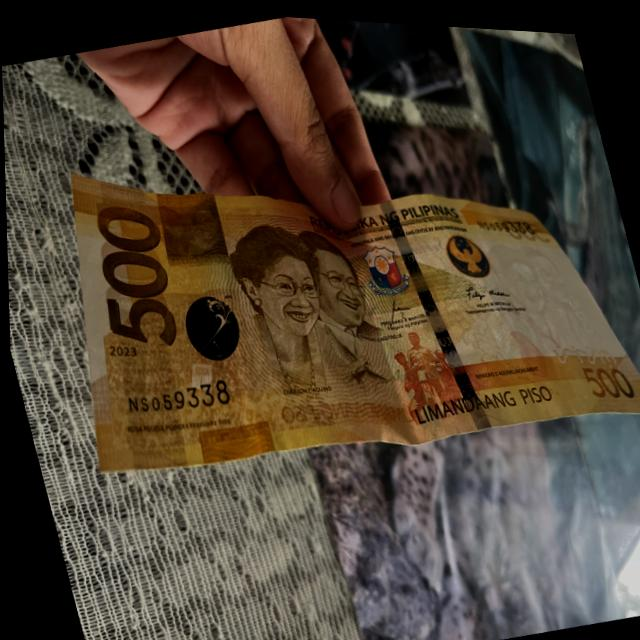concealed_value: (150, 178, 231, 272)
optically_variable_device: (164, 275, 257, 385)
see_through_mark: (529, 318, 624, 378)
serial_number: (116, 352, 237, 443)
watermark: (491, 220, 596, 351)
